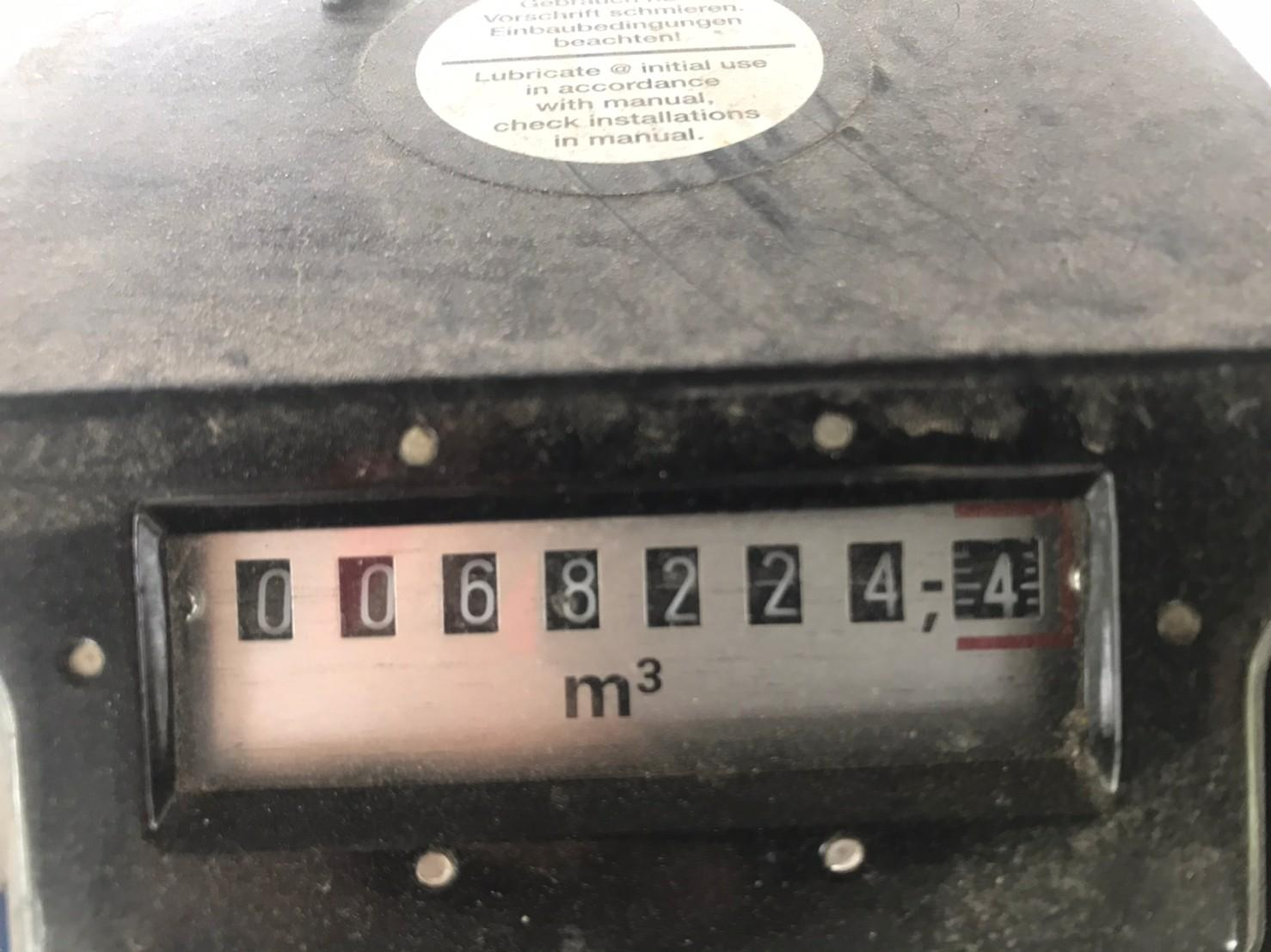analog_dial: (167, 497, 1089, 795)
